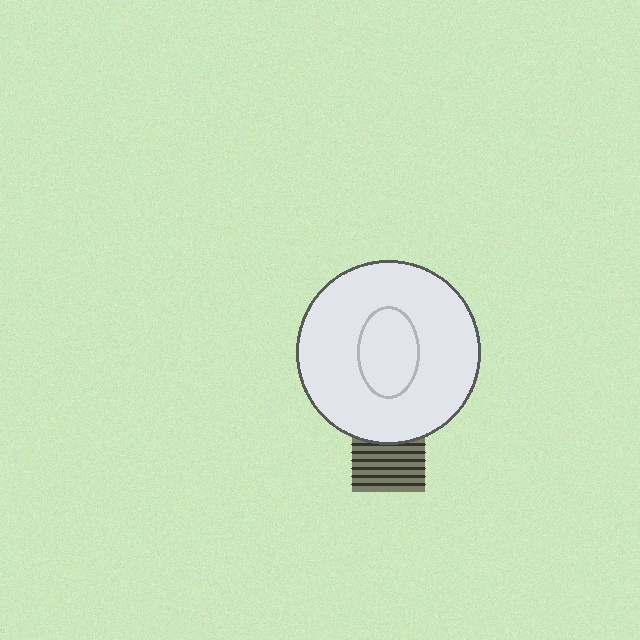bulb: (292, 256, 484, 496)
